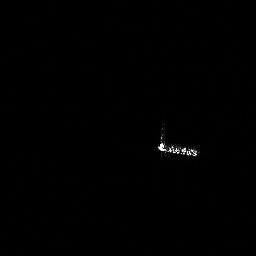ship: (153, 131, 201, 160)
